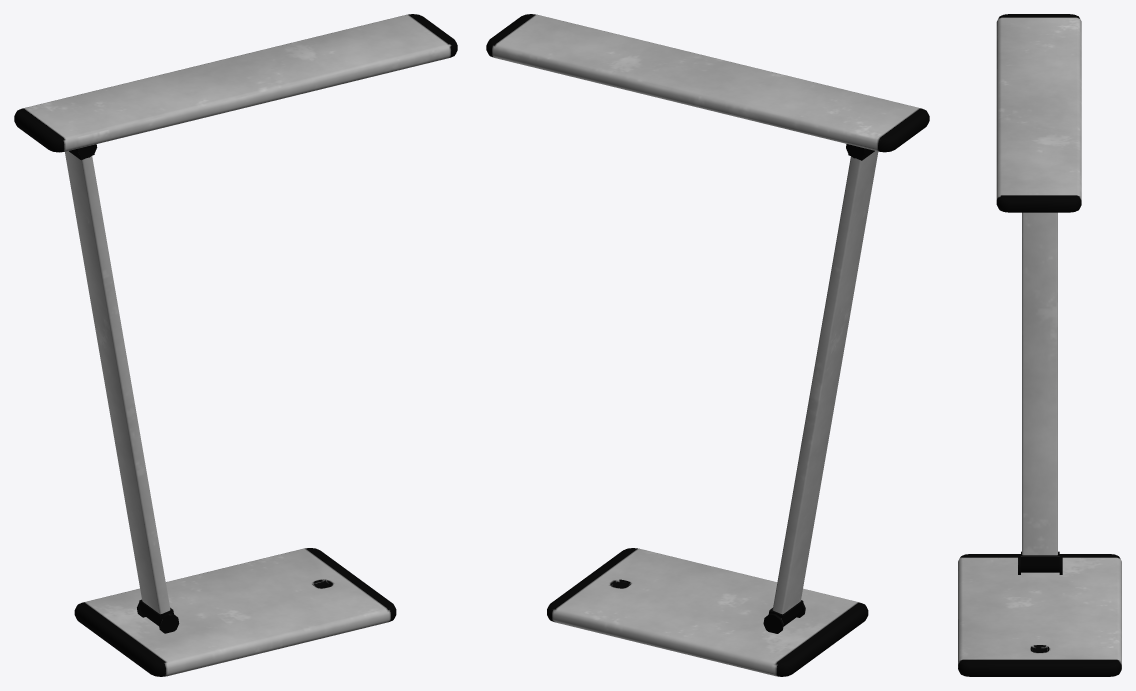
File: Lamp.fbx
3 views of the same model, side by side, from view 1: azimuth 30°, elevation 25°; view 2: azimuth 150°, elevation 25°; view 3: azimuth 270°, elevation 25° (orthographic). The views are drawn at different scales.
Visible parts, largest first — view 1: Lamp; view 2: Lamp; view 3: Lamp.
Part boxes in pixels (<box>): Lamp: <box>14,14,457,676</box>; Lamp: <box>486,14,929,676</box>; Lamp: <box>958,14,1121,676</box>.
Size of the model in its own units: 11 by 38.17 by 30.
Materials: 1 (1 with a texture image).
